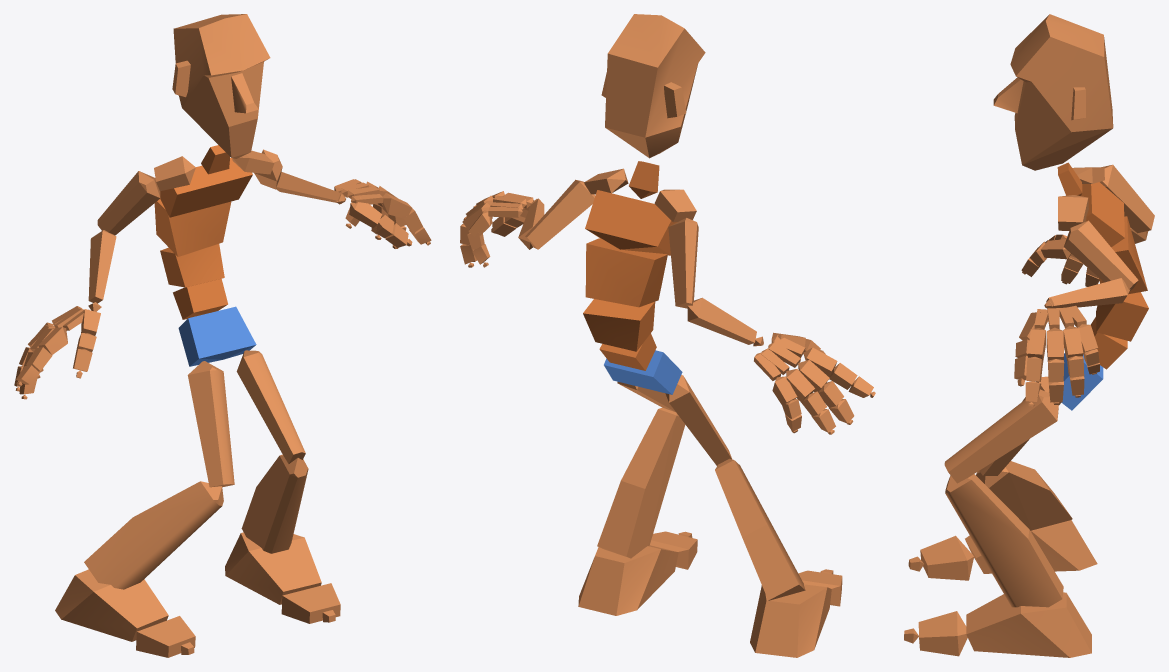
File: prueba291.obj
3 renders of one model, left to right at view 1: azimuth 30°, elevation 25°; view 2: azimuth 150°, elevation 25°; view 3: azimuth 270°, elevation 25°, orthographic. The views are drawn at different scales.
Parts seen in each view (by area): view 1: BOPED_Head, BOPED_R_leg, BOPED_R_foot, BOPED_L_leg, BOPED_R_foot01, BOPED_R_legup, Bone01, BOPED_L_legup, Bone04, Bone05, BOPED_R_arm_upper, Bone03 (+8 smaller); view 2: BOPED_Head, BOPED_L_leg, BOPED_R_leg, BOPED_R_foot01, BOPED_R_foot, Bone04, Bone05, Bone03, BOPED_R_arm_upper, BOPED_R_legup, BOPED_L_arm_upper, Bone01 (+7 smaller); view 3: BOPED_Head, BOPED_L_leg, BOPED_R_foot01, BOPED_L_legup, BOPED_R_leg, BOPED_R_foot, BOPED_L_arm_upper, Bone05, BOPED_R_foot_toe01, Bone03, BOPED_R_foot_toe04, BOPED_R_arm_upper (+15 smaller).
Part boxes in pixels (x1,y1,x2,y2): BOPED_Head: (172,14,270,158); BOPED_R_leg: (84,481,223,589); BOPED_R_foot: (55,569,168,641); BOPED_L_leg: (241,454,308,553); BOPED_R_foot01: (225,532,321,604); BOPED_R_legup: (187,361,234,487); Bone01: (178,306,256,366); BOPED_L_legup: (236,350,305,463); Bone04: (154,199,231,256); Bone05: (160,158,252,217); BOPED_R_arm_upper: (97,171,160,235); Bone03: (160,244,224,287); BOPED_Head: (601,14,705,158); BOPED_L_leg: (597,407,685,558); BOPED_R_leg: (715,458,805,600); BOPED_R_foot01: (578,545,678,615); BOPED_R_foot: (750,584,831,657); Bone04: (585,238,667,307); Bone05: (585,190,677,255); Bone03: (583,299,655,351); BOPED_R_arm_upper: (668,218,698,308); BOPED_R_legup: (665,375,731,465); BOPED_L_arm_upper: (525,179,594,249); Bone01: (604,350,682,394); BOPED_Head: (993,14,1113,170); BOPED_L_leg: (945,474,1063,607); BOPED_R_foot01: (966,592,1091,657); BOPED_L_legup: (944,389,1058,483); BOPED_R_leg: (976,461,1072,530); BOPED_R_foot: (965,520,1097,573); BOPED_L_arm_upper: (1064,220,1138,291); Bone05: (1081,182,1124,247); BOPED_R_foot_toe01: (920,535,974,580); Bone03: (1096,292,1148,341); BOPED_R_foot_toe04: (918,611,967,656); BOPED_R_arm_upper: (1100,164,1154,233).
Size of the model in its own units: 130 by 175 by 65.91.
